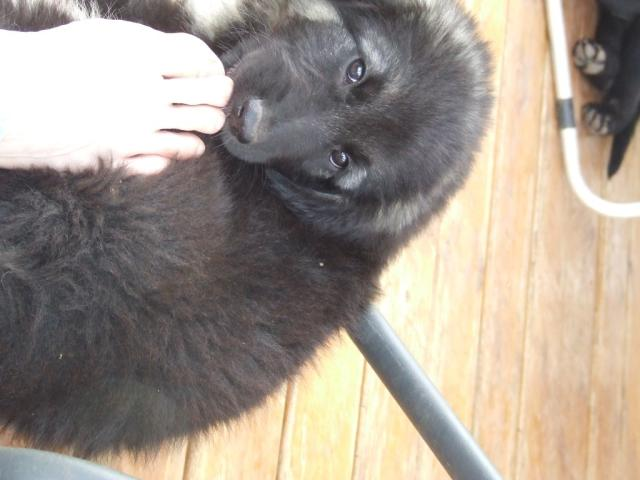Dog: (0, 0, 491, 463), (572, 0, 640, 178)
